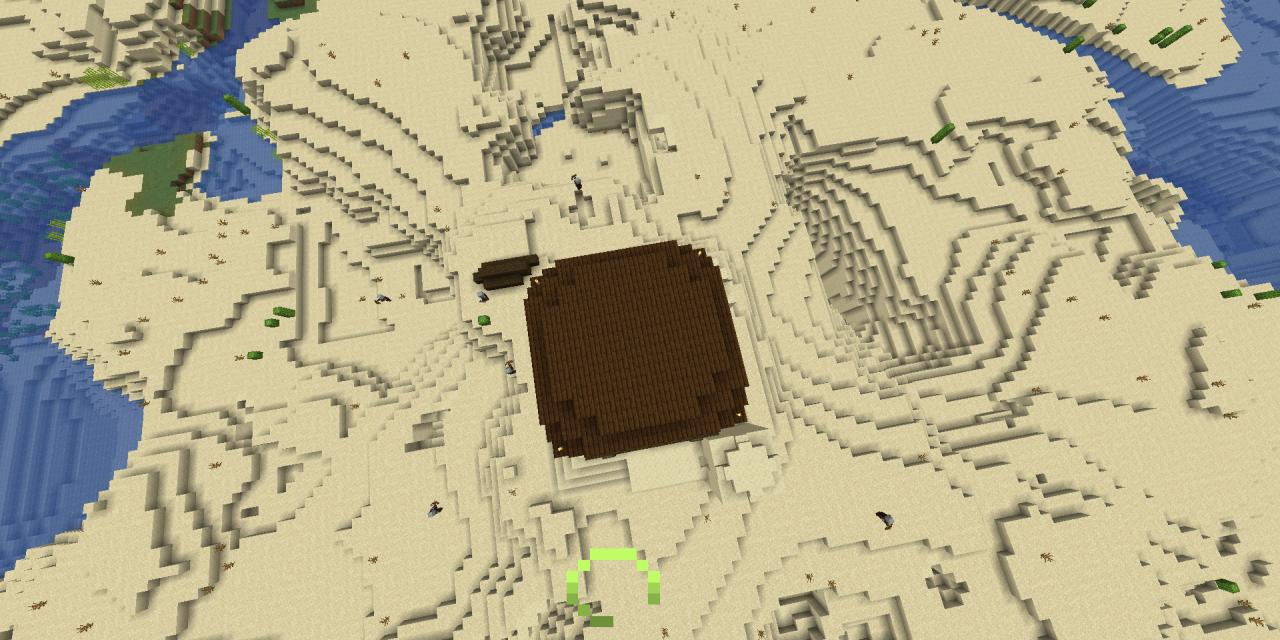desert temple: (526, 418, 814, 506)
pillager outpost: (517, 234, 755, 460)
